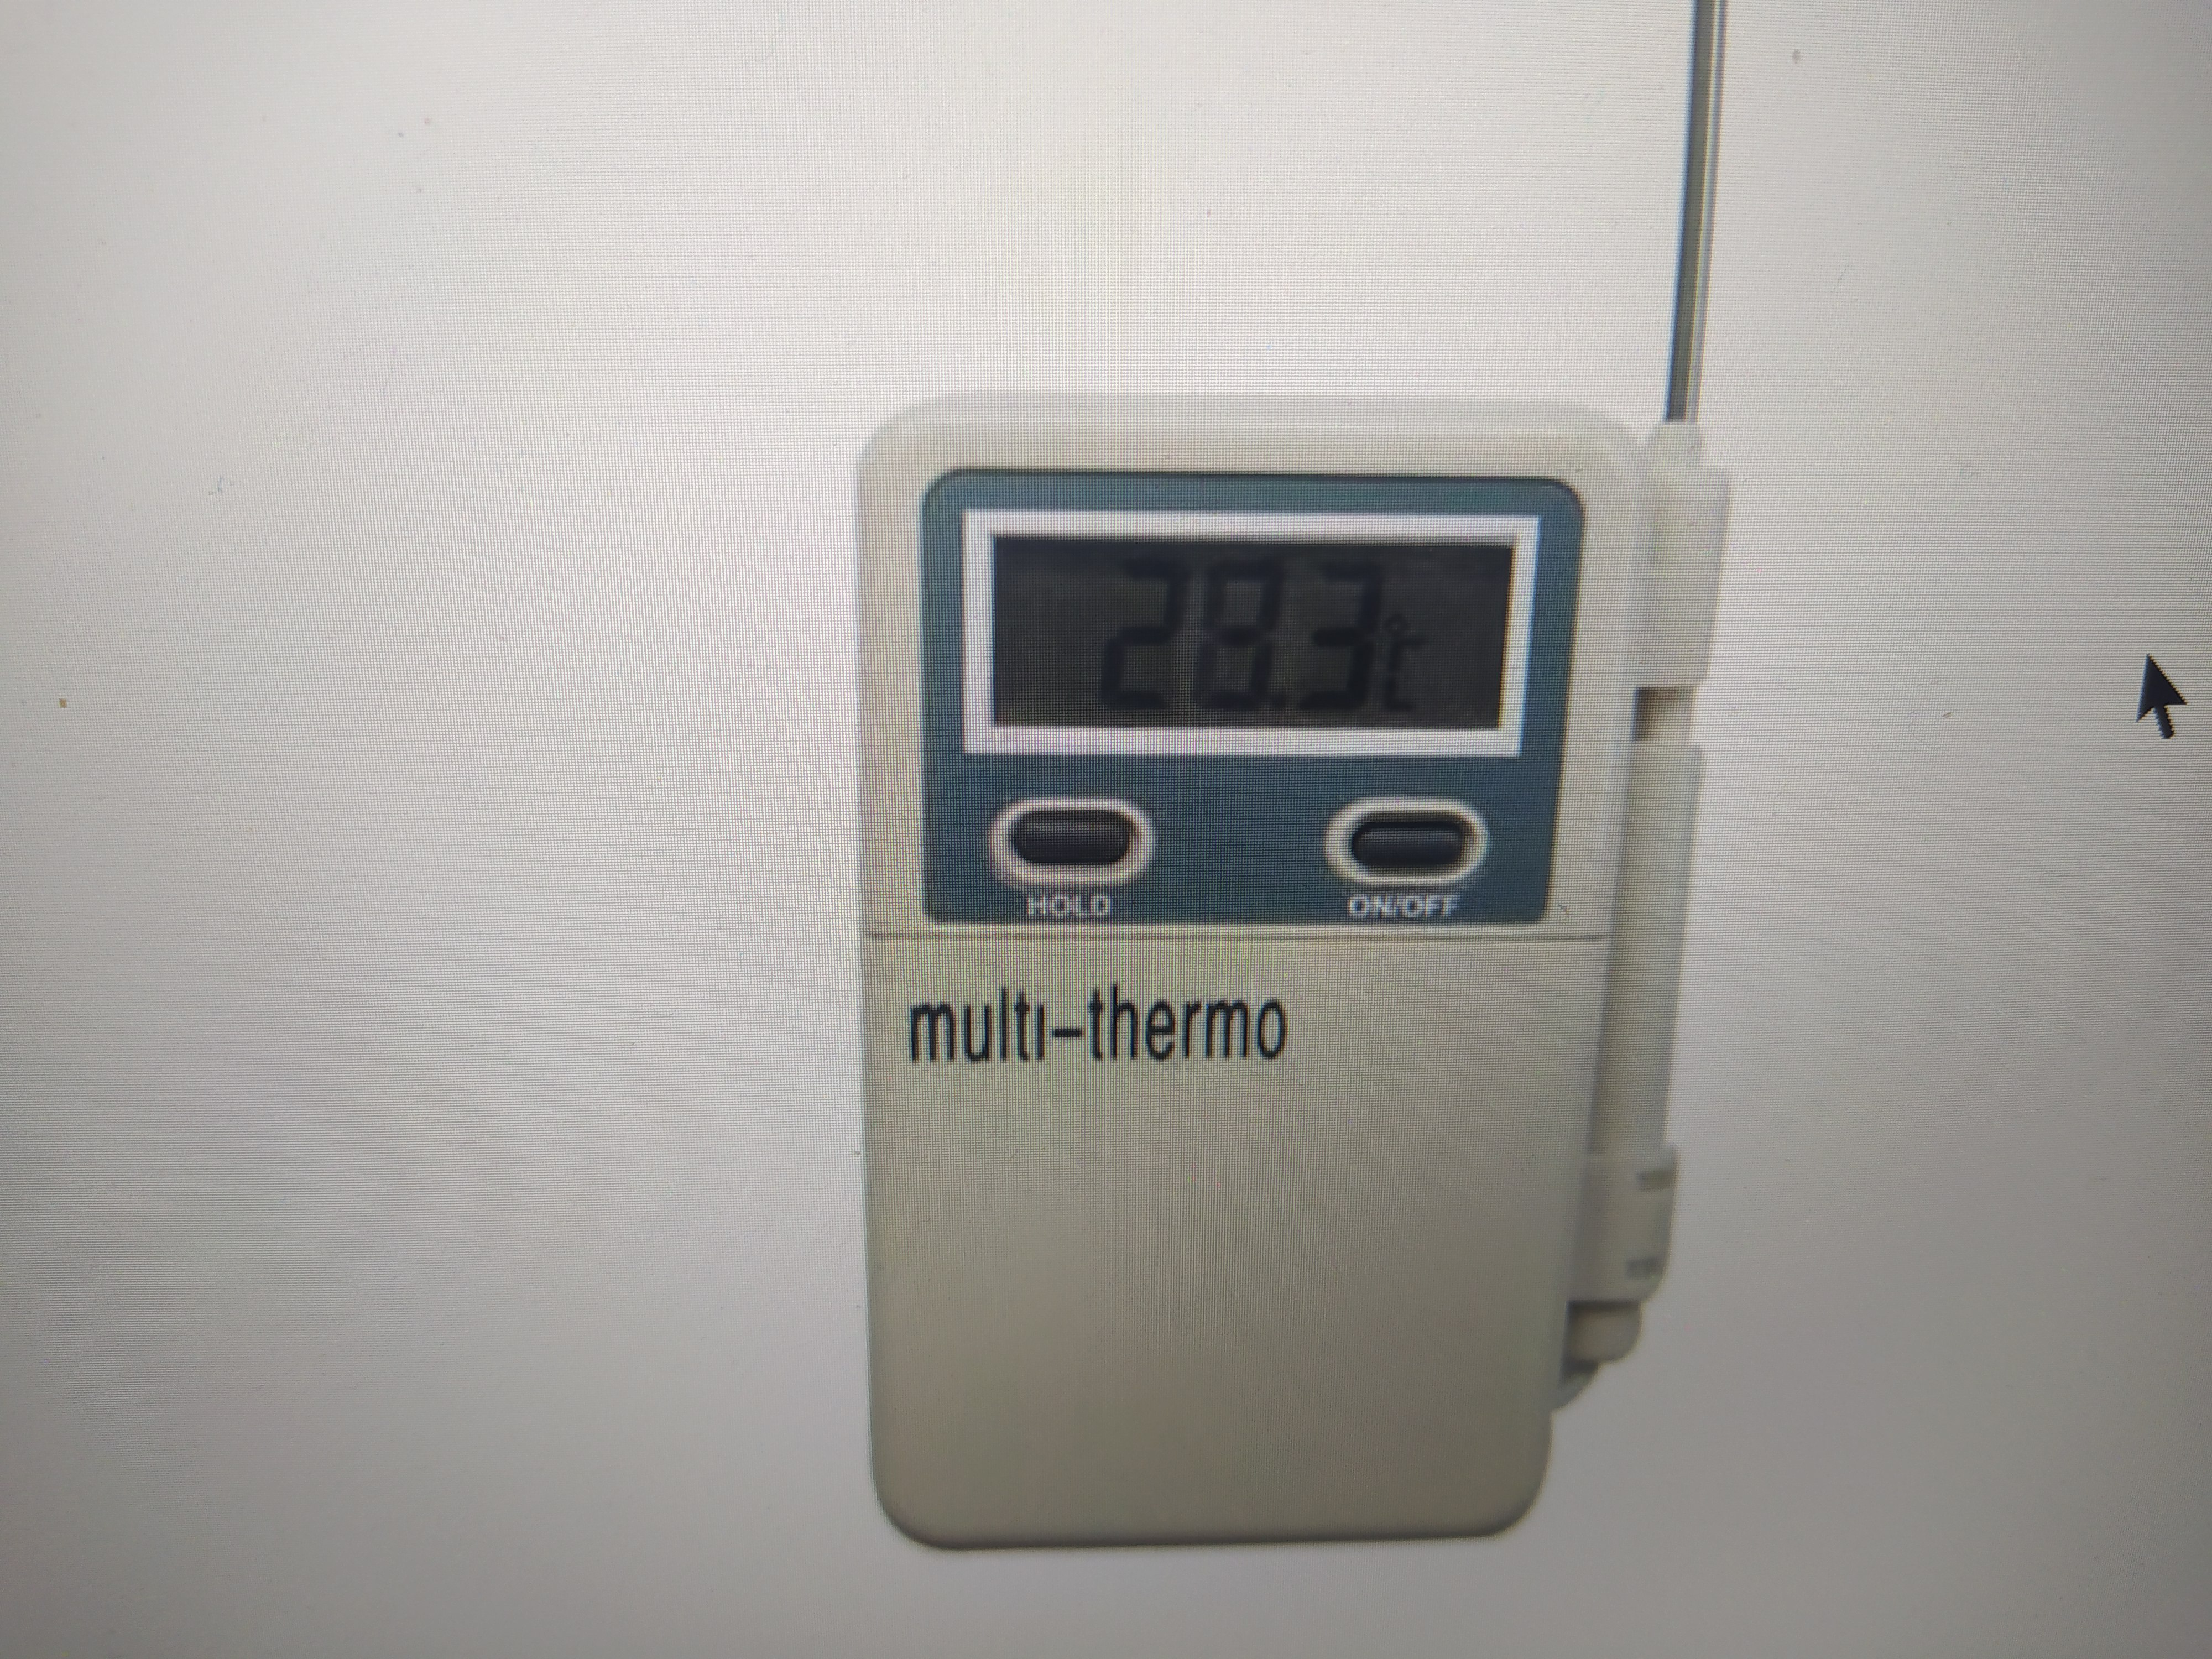.: (1273, 561, 1303, 713)
2: (1082, 556, 1186, 709)
3: (1306, 565, 1386, 716)
8: (1191, 559, 1284, 713)
